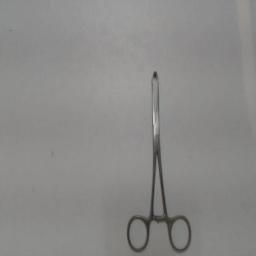Allis Tissue Forceps: (123, 65, 193, 253)
